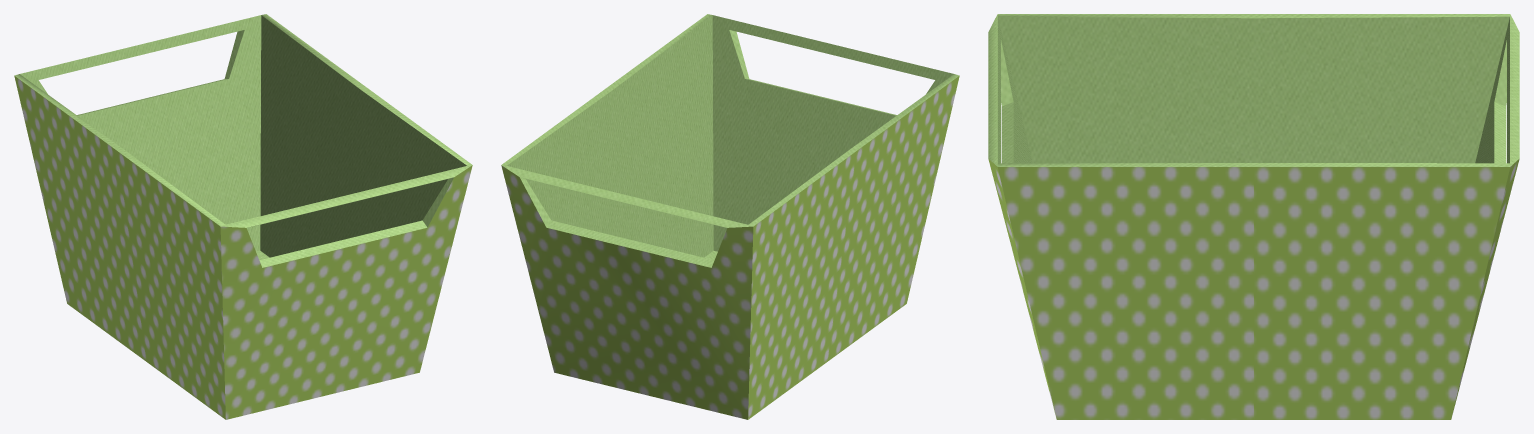
Rendered from Storage_Bin_C.FBX.
3 views of the same model, side by side, from view 1: azimuth 30°, elevation 25°; view 2: azimuth 150°, elevation 25°; view 3: azimuth 270°, elevation 25° (orthographic). The views are drawn at different scales.
Visible parts, largest first — view 1: Storage_Bin; view 2: Storage_Bin; view 3: Storage_Bin.
Part boxes in pixels (x1,y1,x2,y2): Storage_Bin: (14, 14, 472, 419); Storage_Bin: (501, 14, 959, 419); Storage_Bin: (988, 14, 1519, 419).
Size of the model in its own units: 84.75 by 70.11 by 125.
